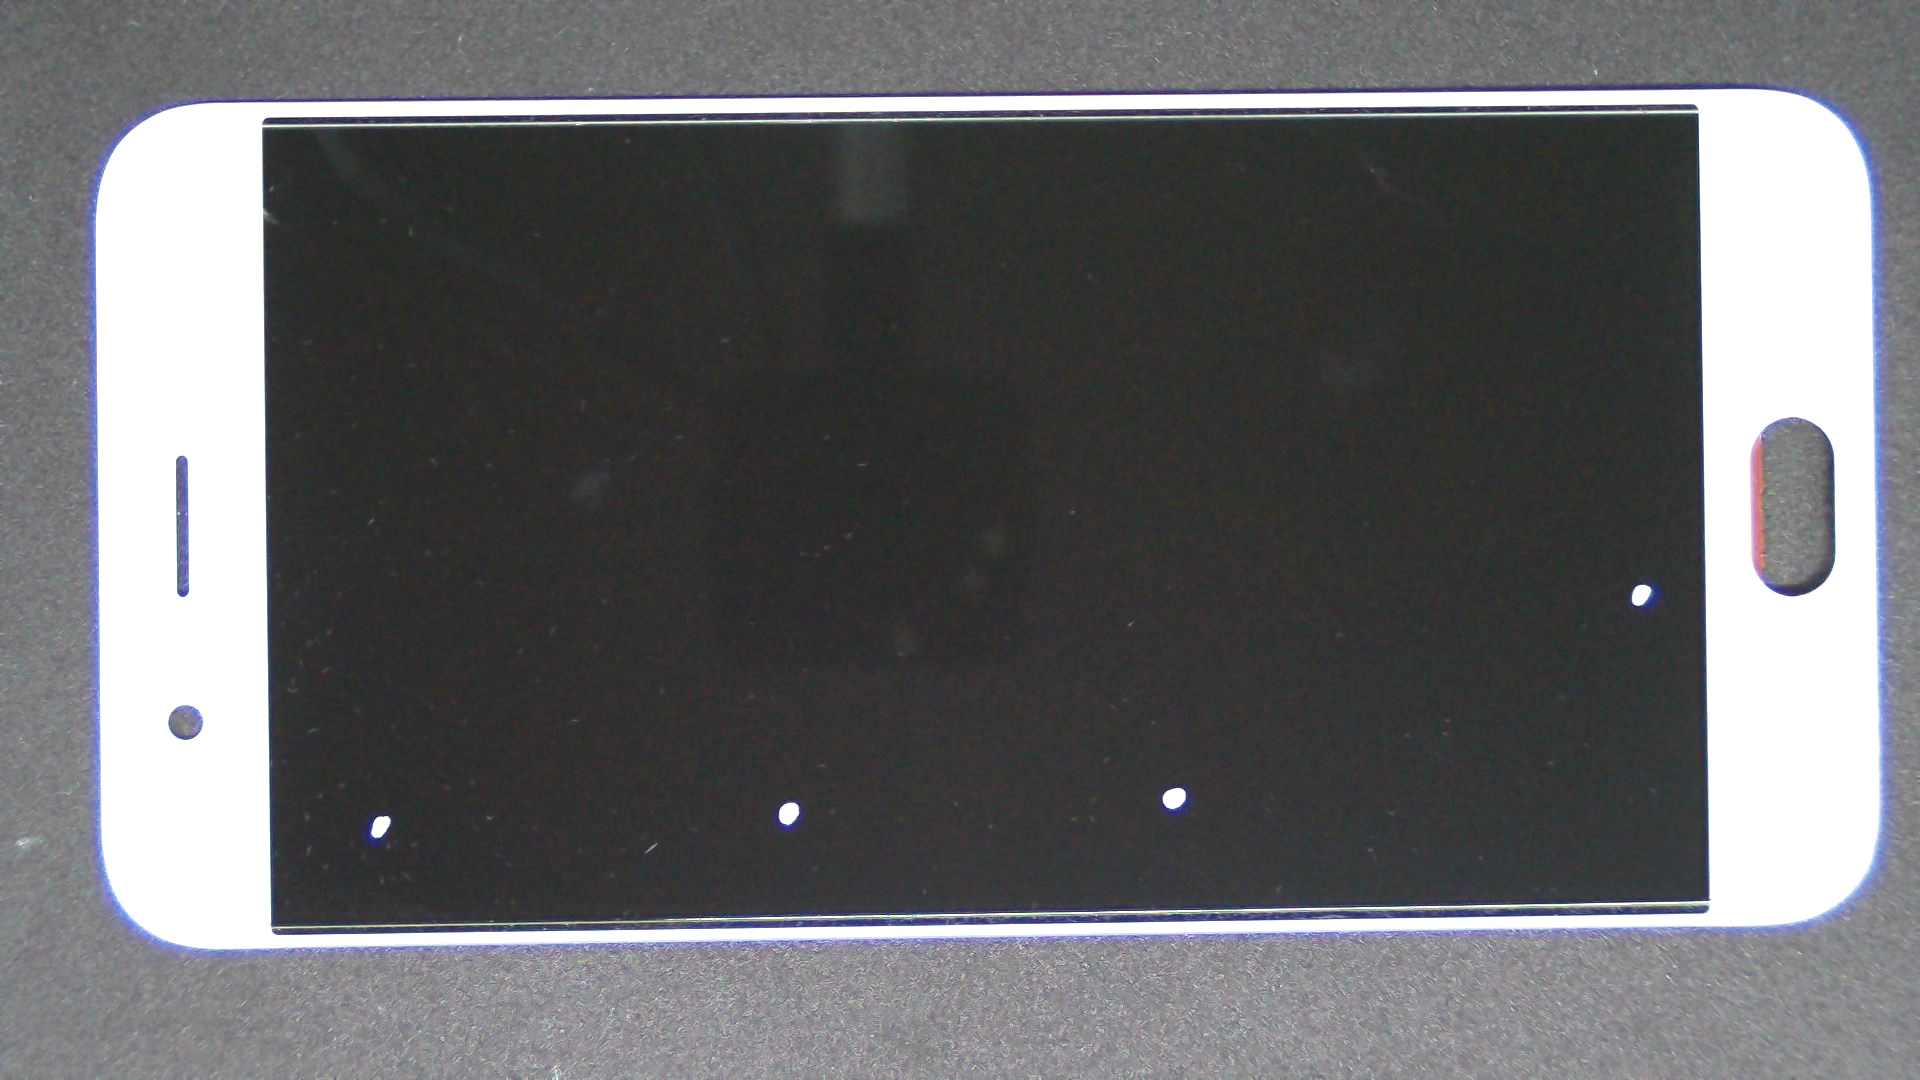oil: (588, 393, 1762, 1080), (819, 290, 1920, 876), (396, 400, 1183, 1080), (194, 406, 579, 1080)
